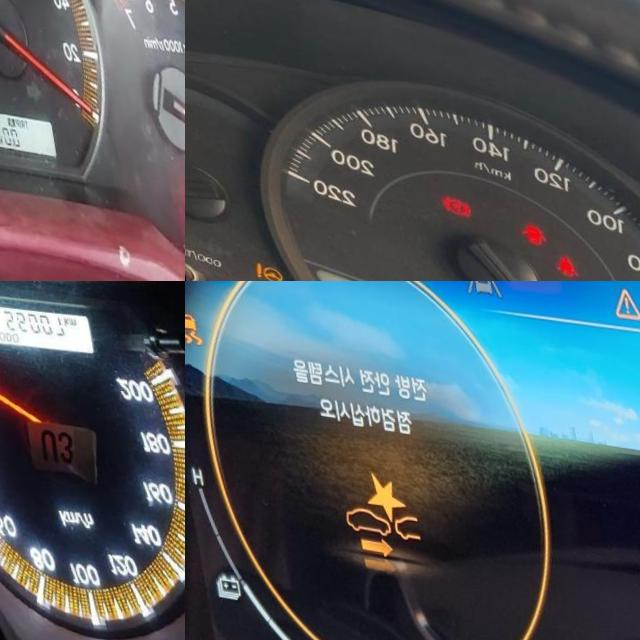Central Warning lamp: (609, 281, 640, 306)
Electronic Power Steering: (239, 258, 270, 281)
Seat Belt: (540, 245, 563, 269)
